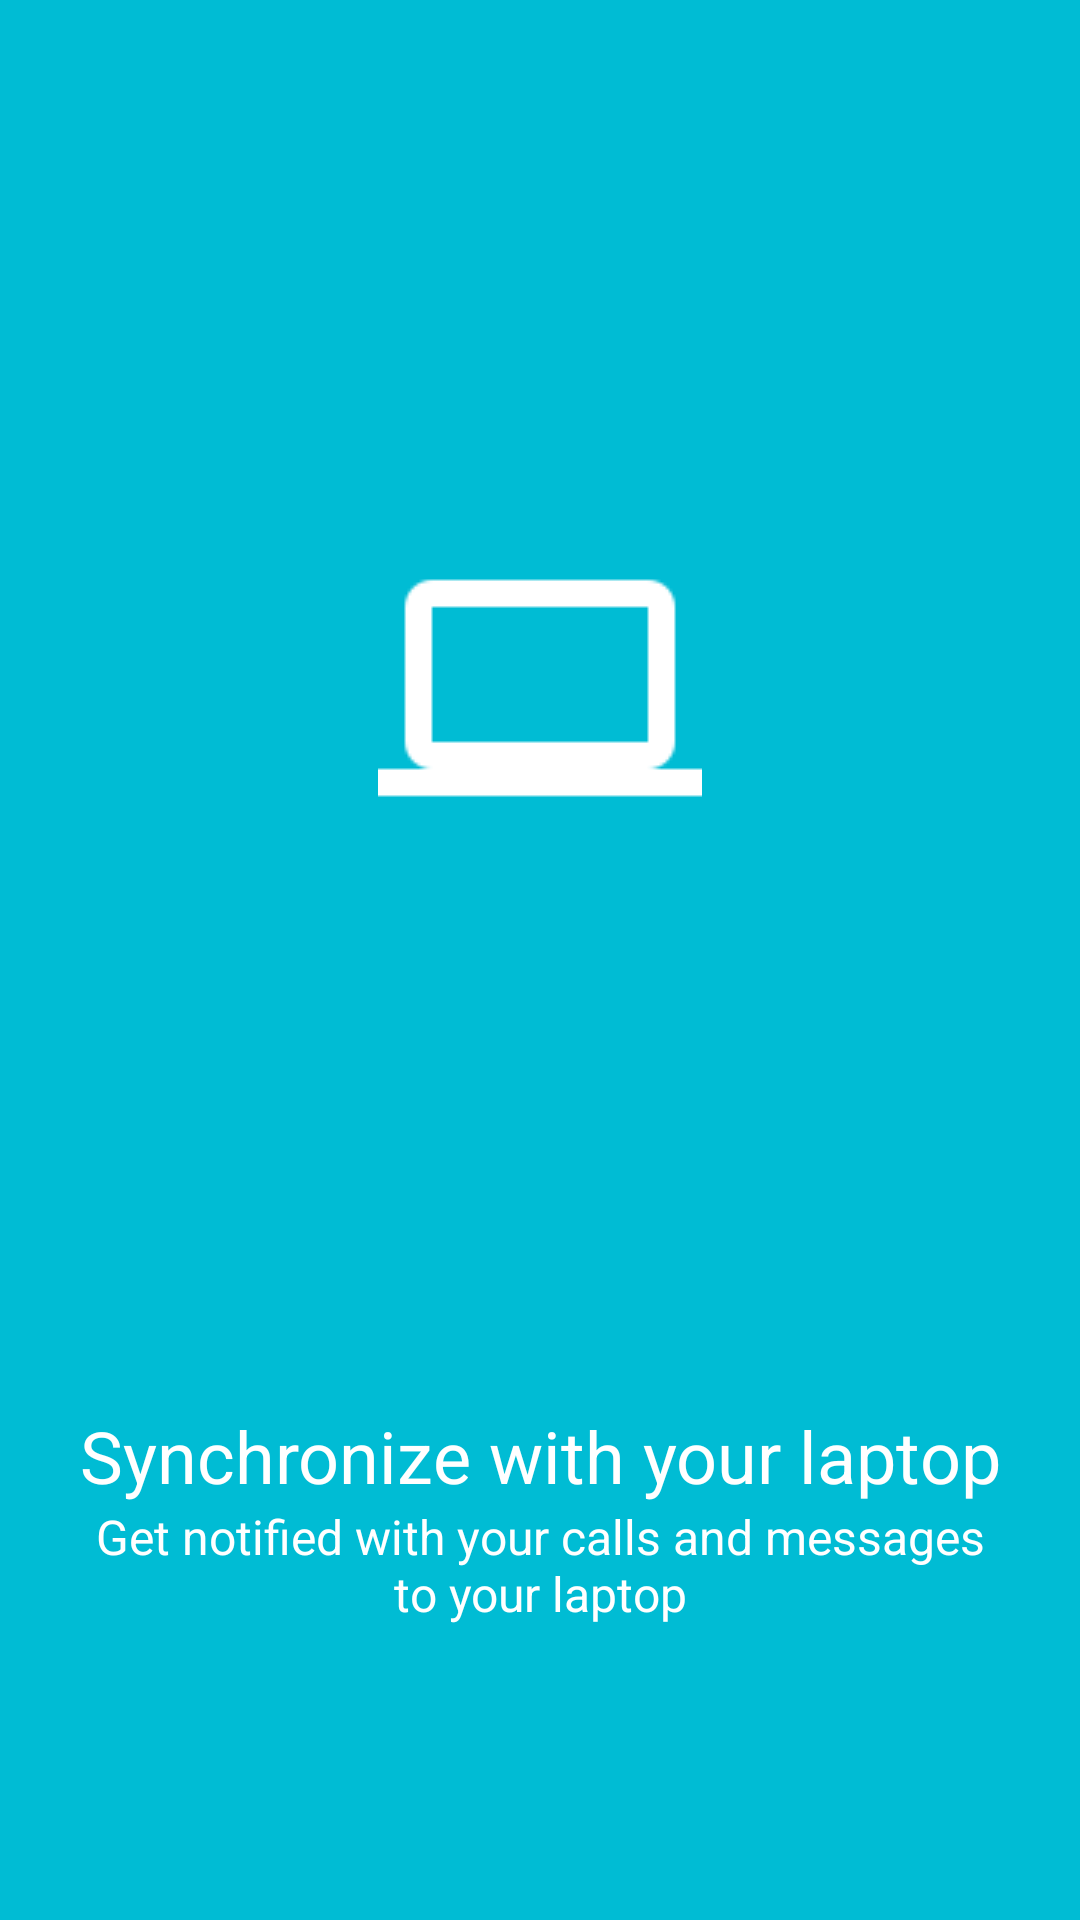

Named icons in this screenshot (1080×1920) and their centers, (x=x, y=y):
laptop: (x=540, y=688)
